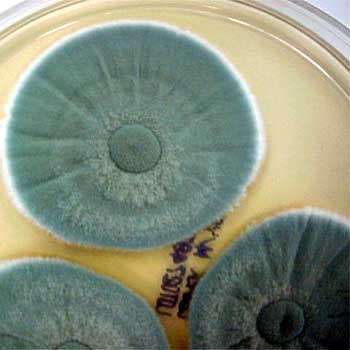Cladosporium: (6, 49, 255, 214), (188, 230, 350, 350), (1, 261, 153, 350)
